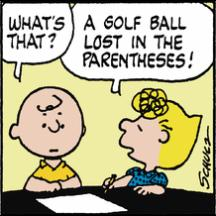charlie: (8, 84, 88, 194)
